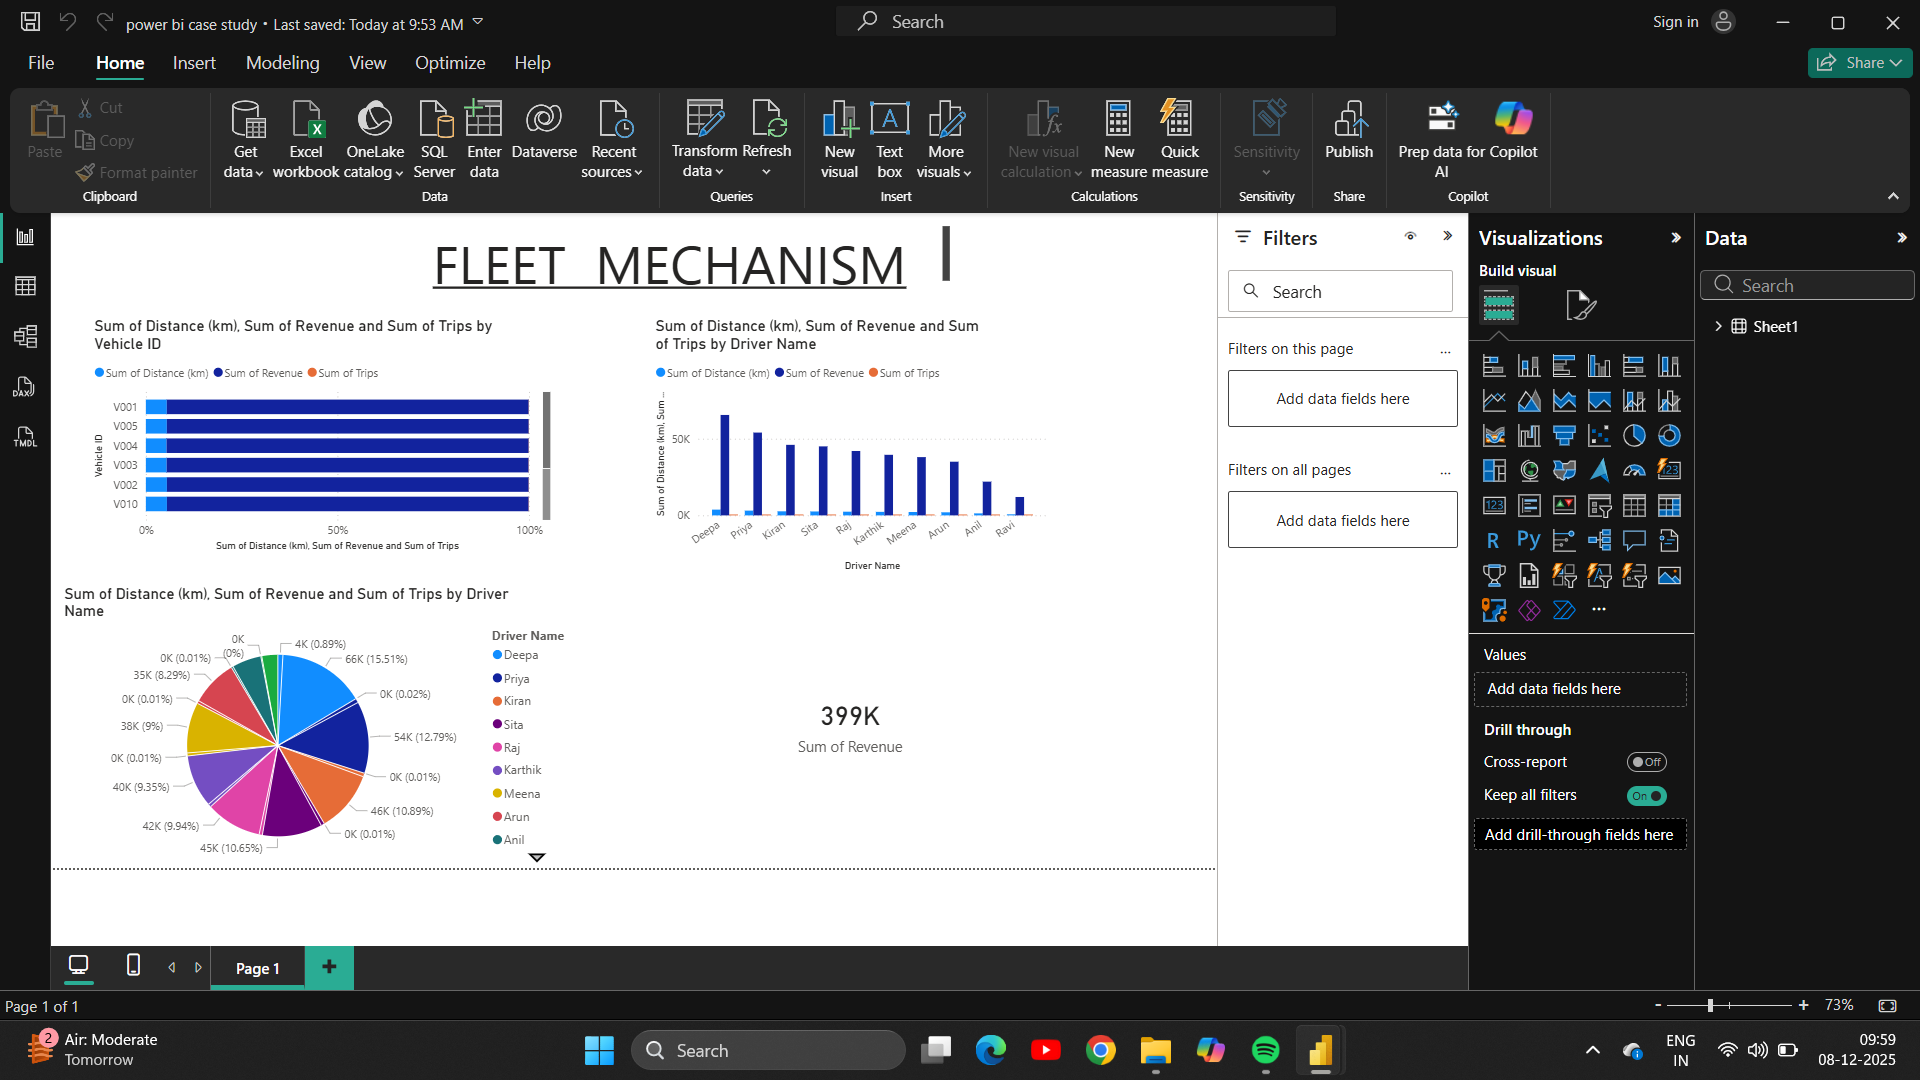

Layout of this report page (visuals, bound fields, positions):
{"tool":"powerbi","page":{"name":"Page 1","canvas":[1280,720],"ordinal":0},"visuals":[{"type":"clusteredColumnChart","fields":{"Y":["Sum(Sheet1.Distance (km))","Sum(Sheet1.Revenue)","Sum(Sheet1.Trips)"],"Category":["Sheet1.Driver Name"]},"box":[658.7,113.9,439.1,284],"z":0},{"type":"pieChart","fields":{"Y":["Sum(Sheet1.Distance (km))","Sum(Sheet1.Revenue)","Sum(Sheet1.Trips)"],"Category":["Sheet1.Driver Name","Sheet1.Vehicle ID"]},"box":[9.6,407.5,576.3,312.9],"z":1000},{"type":"hundredPercentStackedBarChart","fields":{"Y":["Sum(Sheet1.Distance (km))","Sum(Sheet1.Revenue)","Sum(Sheet1.Trips)"],"Category":["Sheet1.Vehicle ID"]},"box":[42.5,113.9,510.5,262.1],"z":2000},{"type":"card","fields":{"Values":["Sum(Sheet1.Revenue)"]},"box":[618.9,407.5,517.3,307.4],"z":3000},{"type":"textbox","box":[349.9,9.6,642.2,78.2],"z":3001}]}

Visuals, with their boxes on the page's 1280x720 design canvas (x1, y1, x2, y2). These are canvas units, not pixel positions in the 1920x1080 screenshot, which may show the page scaled, cropped or inside an application window:
clusteredColumnChart - Sum(Sheet1.Distance (km)) x Sum(Sheet1.Revenue): locate(659, 114, 1098, 398)
pieChart - Sum(Sheet1.Distance (km)) x Sum(Sheet1.Revenue): locate(10, 408, 586, 720)
hundredPercentStackedBarChart - Sum(Sheet1.Distance (km)) x Sum(Sheet1.Revenue): locate(42, 114, 553, 376)
card - Sum(Sheet1.Revenue): locate(619, 408, 1136, 715)
textbox: locate(350, 10, 992, 88)
